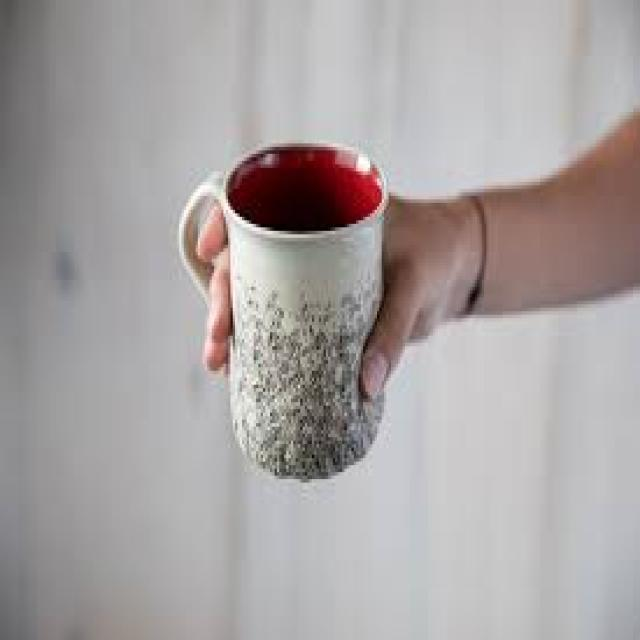taza: (177, 142, 390, 480)
